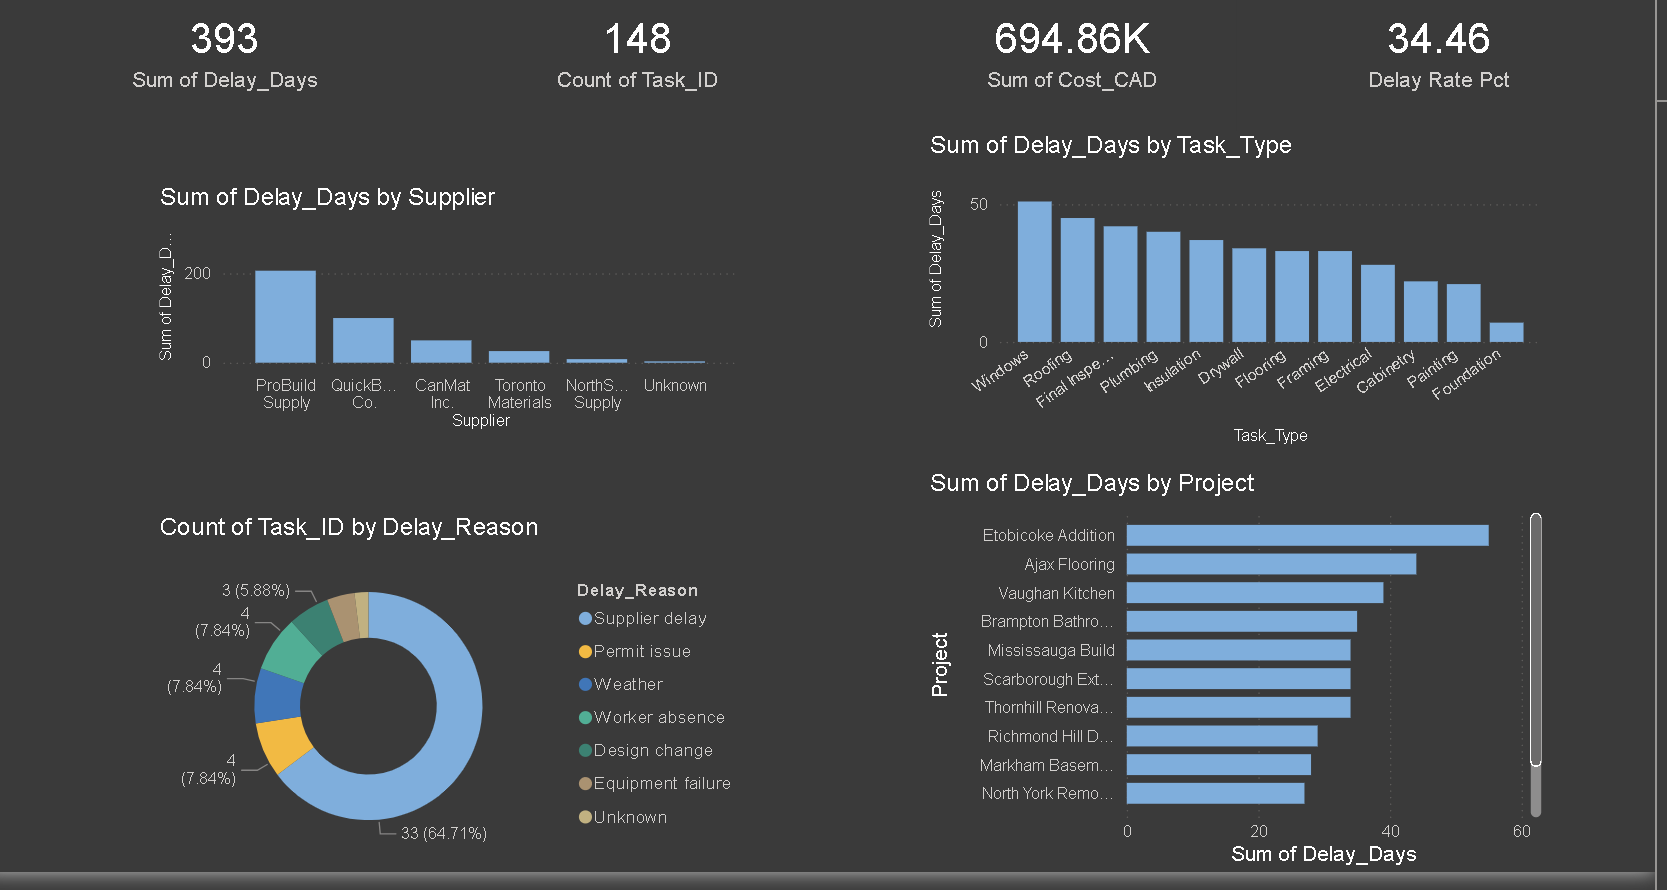

The dashboard page shown, as its layout file describes it:
{"tool":"powerbi","page":{"name":"Page 1","canvas":[1280,720],"ordinal":0},"visuals":[{"type":"lineStackedColumnComboChart","fields":{"Category":["construction_pm delays_clean.Supplier"],"Y":["Sum(construction_pm delays_clean.Delay_Days)"]},"box":[130.4,193,452.8,194.1],"z":0},{"type":"card","fields":{"Values":["Sum(construction_pm delays_clean.Delay_Days)"]},"box":[85.9,0,198.3,180.3],"z":1000},{"type":"card","fields":{"Values":["CountNonNull(construction_pm delays_clean.Task_ID)"]},"box":[381.8,0,239.7,180.3],"z":2000},{"type":"card","fields":{"Values":["Sum(construction_pm delays_clean.Cost_CAD)"]},"box":[709.5,0,250.3,180.3],"z":3000},{"type":"card","fields":{"Values":["construction_pm delays_clean.Delay Rate Pct"]},"box":[1002.2,0,223.8,180.3],"z":4000},{"type":"clusteredBarChart","fields":{"Category":["construction_pm delays_clean.Project"],"Y":["Sum(construction_pm delays_clean.Delay_Days)"]},"box":[720.1,411.5,478.3,308.6],"z":5000},{"type":"donutChart","fields":{"Category":["construction_pm delays_clean.Delay_Reason"],"Y":["CountNonNull(construction_pm delays_clean.Task_ID)"]},"box":[130.4,445.4,452.8,274.7],"z":6000},{"type":"clusteredColumnChart","fields":{"Category":["construction_pm delays_clean.Task_Type"],"Y":["Sum(construction_pm delays_clean.Delay_Days)"]},"box":[720.1,152.7,478.3,245],"z":7000}]}

Visuals, with their boxes on the page's 1280x720 design canvas (x1, y1, x2, y2). These are canvas units, not pixel positions in the 1667x890 screenshot, which may show the page scaled, cropped or inside an application window:
lineStackedColumnComboChart - construction_pm delays_clean.Supplier x Sum(construction_pm delays_clean.Delay_Days): [x1=130, y1=193, x2=583, y2=387]
card - Sum(construction_pm delays_clean.Delay_Days): [x1=86, y1=0, x2=284, y2=180]
card - CountNonNull(construction_pm delays_clean.Task_ID): [x1=382, y1=0, x2=622, y2=180]
card - Sum(construction_pm delays_clean.Cost_CAD): [x1=710, y1=0, x2=960, y2=180]
card - construction_pm delays_clean.Delay Rate Pct: [x1=1002, y1=0, x2=1226, y2=180]
clusteredBarChart - construction_pm delays_clean.Project x Sum(construction_pm delays_clean.Delay_Days): [x1=720, y1=412, x2=1198, y2=720]
donutChart - construction_pm delays_clean.Delay_Reason x CountNonNull(construction_pm delays_clean.Task_ID): [x1=130, y1=445, x2=583, y2=720]
clusteredColumnChart - construction_pm delays_clean.Task_Type x Sum(construction_pm delays_clean.Delay_Days): [x1=720, y1=153, x2=1198, y2=398]
